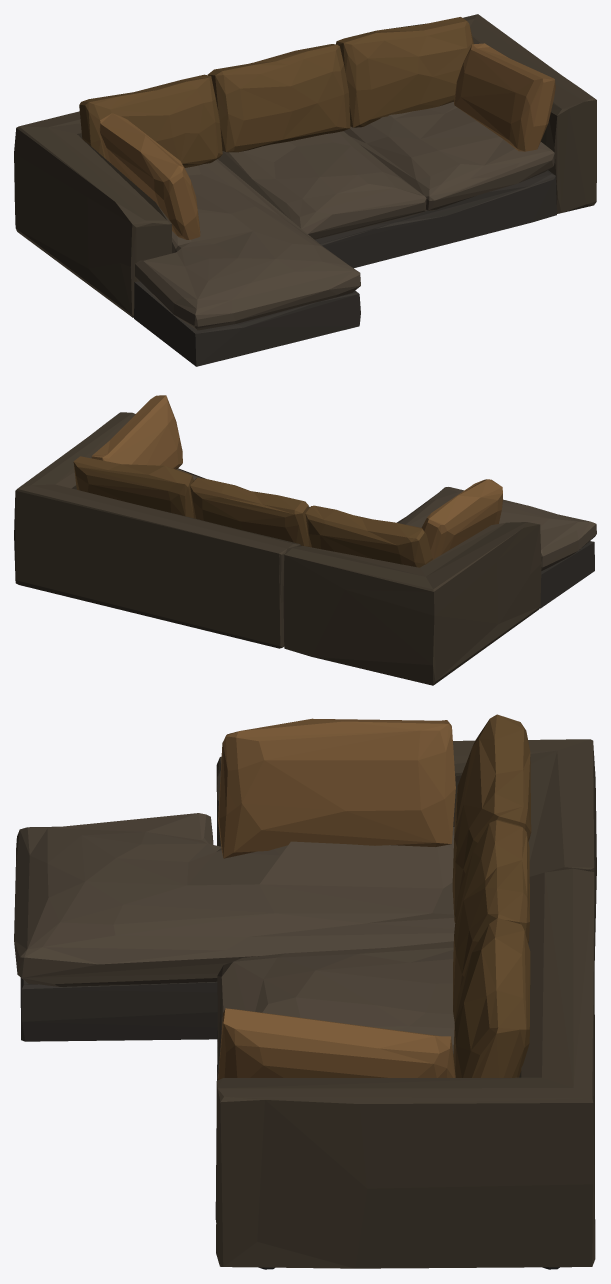
Rendered from C_home_sofa.fbx.
3 renders of one model, top to bottom at view 1: azimuth 30°, elevation 25°; view 2: azimuth 150°, elevation 25°; view 3: azimuth 270°, elevation 25°, orthographic. The views are drawn at different scales.
Parts seen in each view (by area): view 1: sofa; view 2: sofa; view 3: sofa.
Part boxes in pixels (x1,y1,x2,y2): sofa: [14, 14, 596, 366]; sofa: [14, 395, 596, 685]; sofa: [14, 714, 596, 1269].
Size of the model in its own units: 3.11 by 2.1 by 0.9638.
